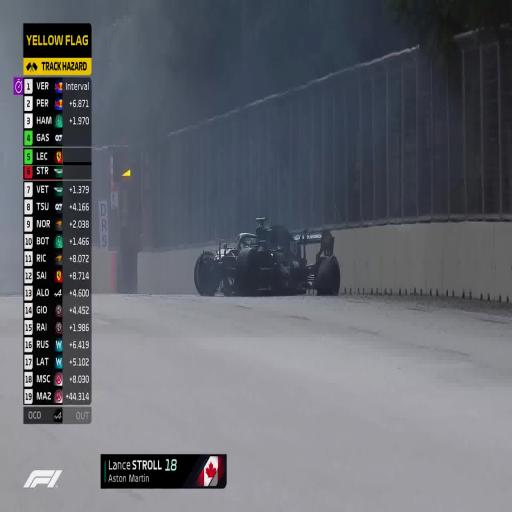f1_car: (194, 218, 340, 295)
